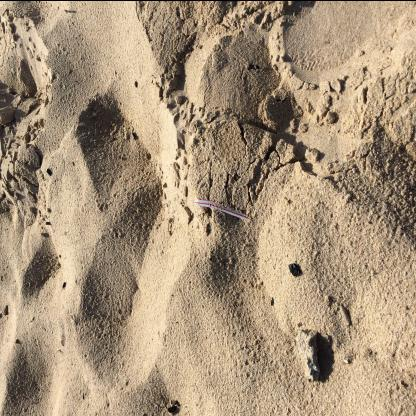plastik: (195, 198, 249, 220)
